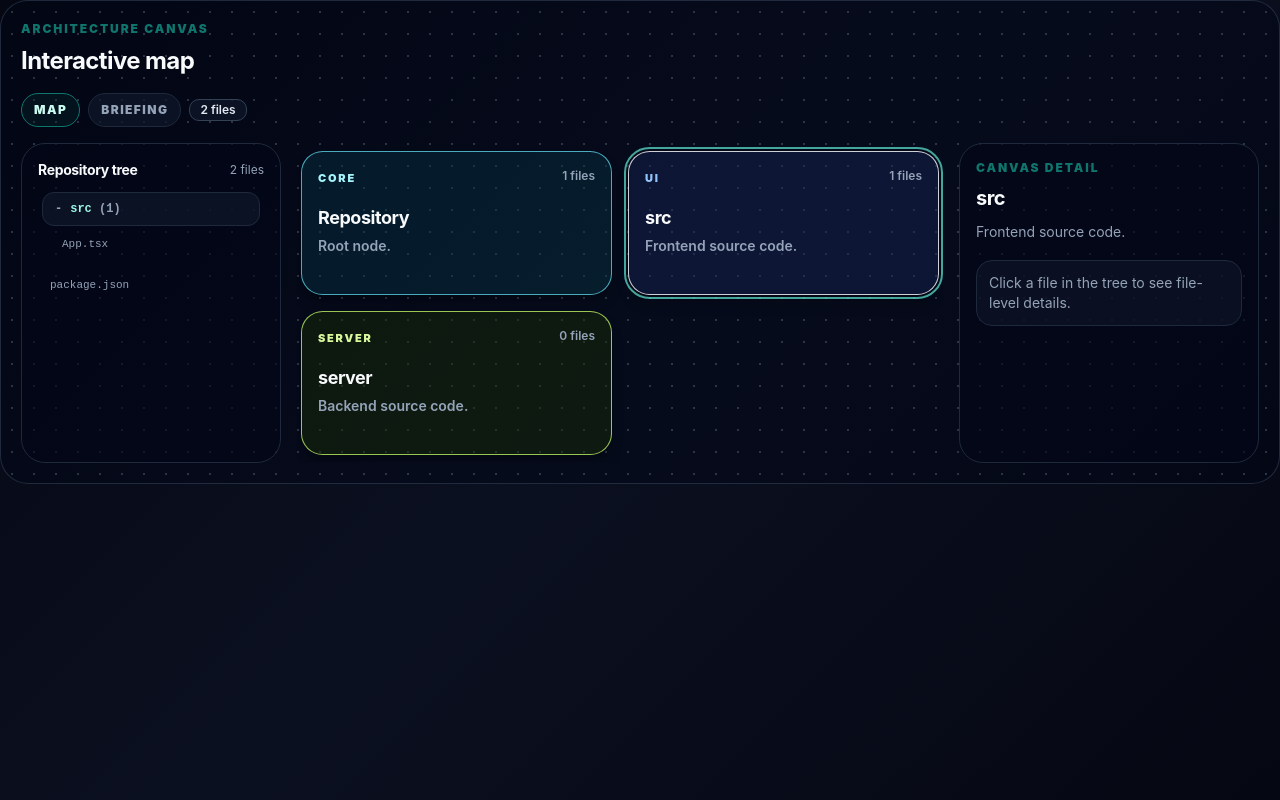
Test: ArchitectureMap › keeps repository tree and canvas detail visible while switching center tabs
Check: the button "Risks" is not shown
Check: the heading "Repository tree" is shown, box [38,160,138,180]
What coordinates should you click on to do the following:
click the button "Briefing"
I would click on:
 (135, 110)
Its box is [88,93,181,127].
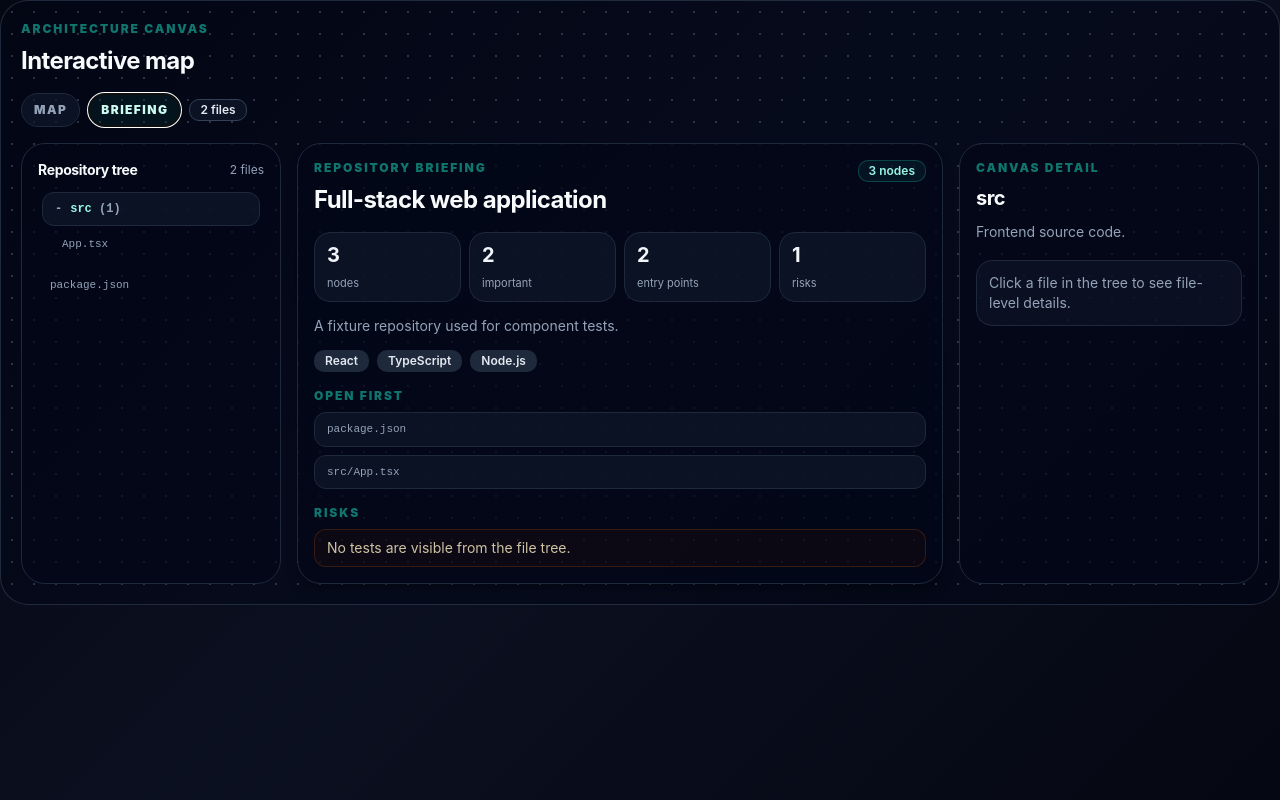
Check: the heading "Repository tree" is shown, box [38,160,138,180]
Check: the list item "No tests are visible from the file tree." is shown, box [314,529,926,567]
